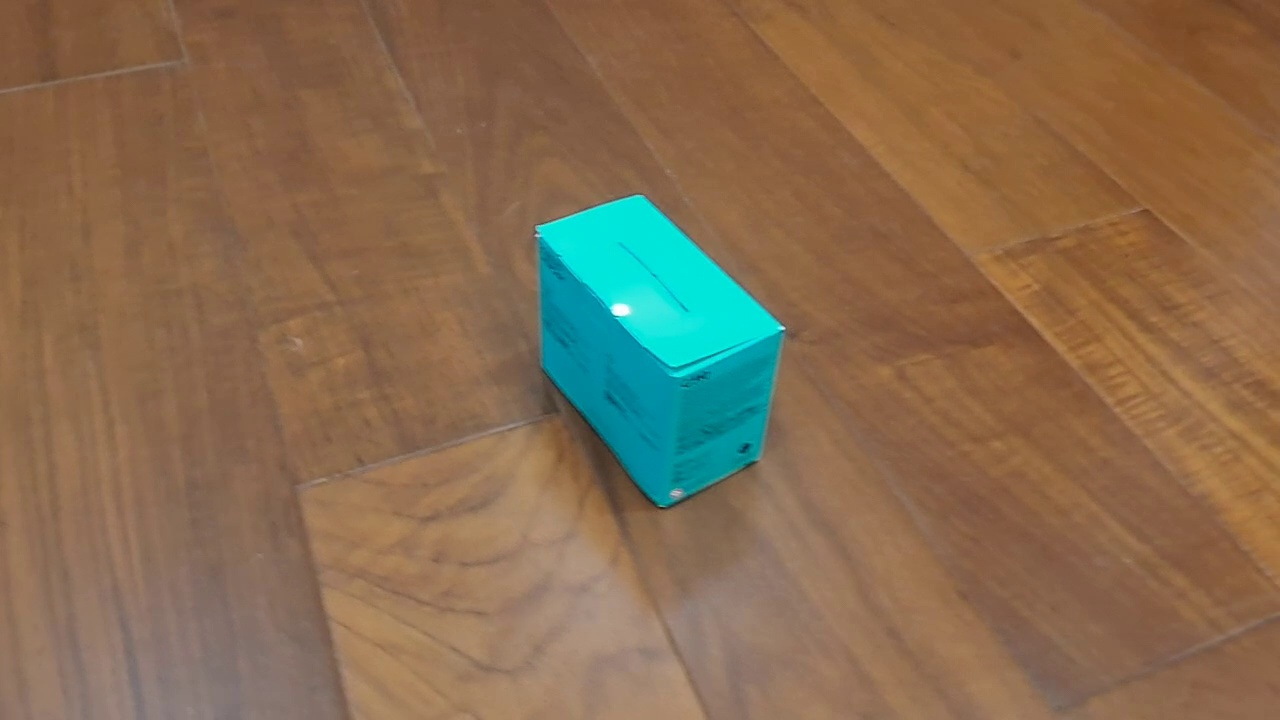webcam: (533, 193, 788, 511)
